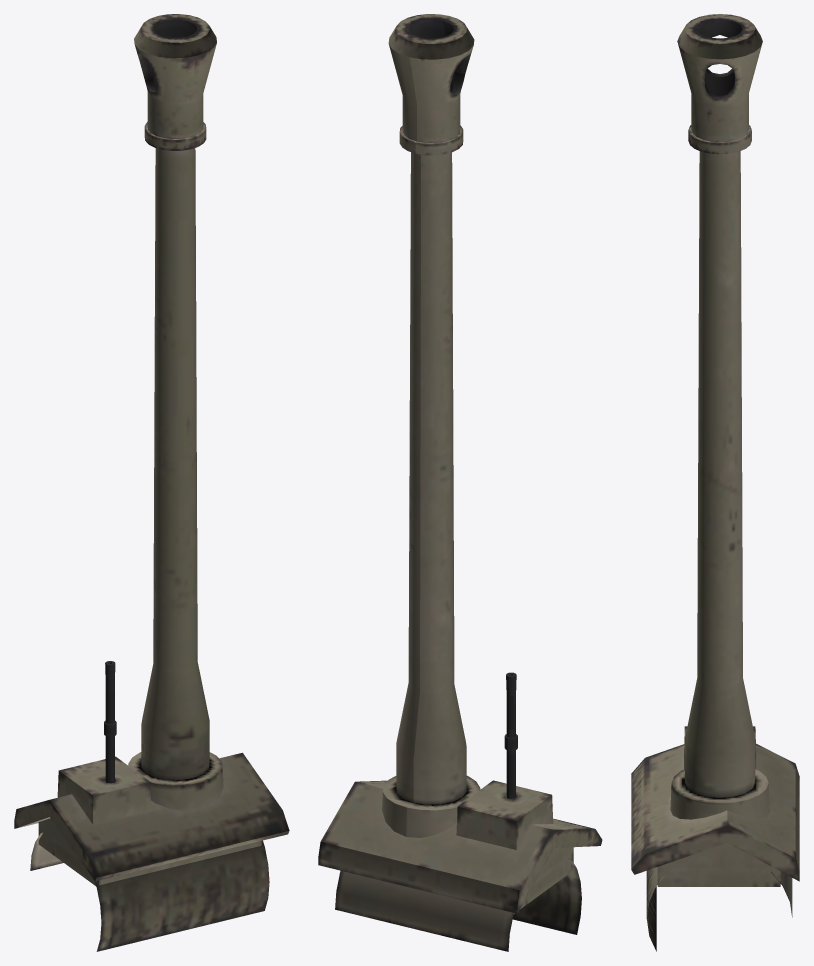
The model's file is Gun_05.glb.
3 views of the same model, side by side, from view 1: azimuth 30°, elevation 25°; view 2: azimuth 150°, elevation 25°; view 3: azimuth 270°, elevation 25° (orthographic). The views are drawn at different scales.
Visible parts, largest first — view 1: set_0_group_0; view 2: set_0_group_0; view 3: set_0_group_0.
Boxes of the visible parts, <box> form: set_0_group_0: <box>14,14,289,951</box>; set_0_group_0: <box>318,14,602,951</box>; set_0_group_0: <box>631,14,799,951</box>.
Size of the model in its own units: 0.5168 by 2.24 by 0.3816.
1 material, 1 textured.
